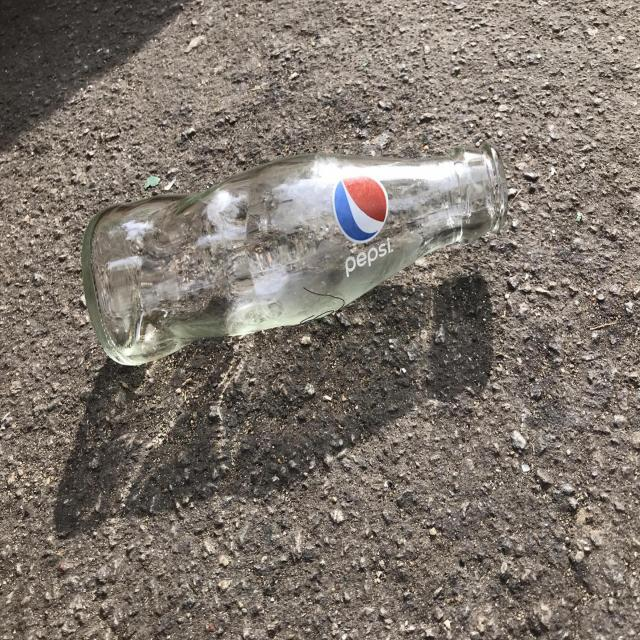glass: (81, 141, 508, 365)
